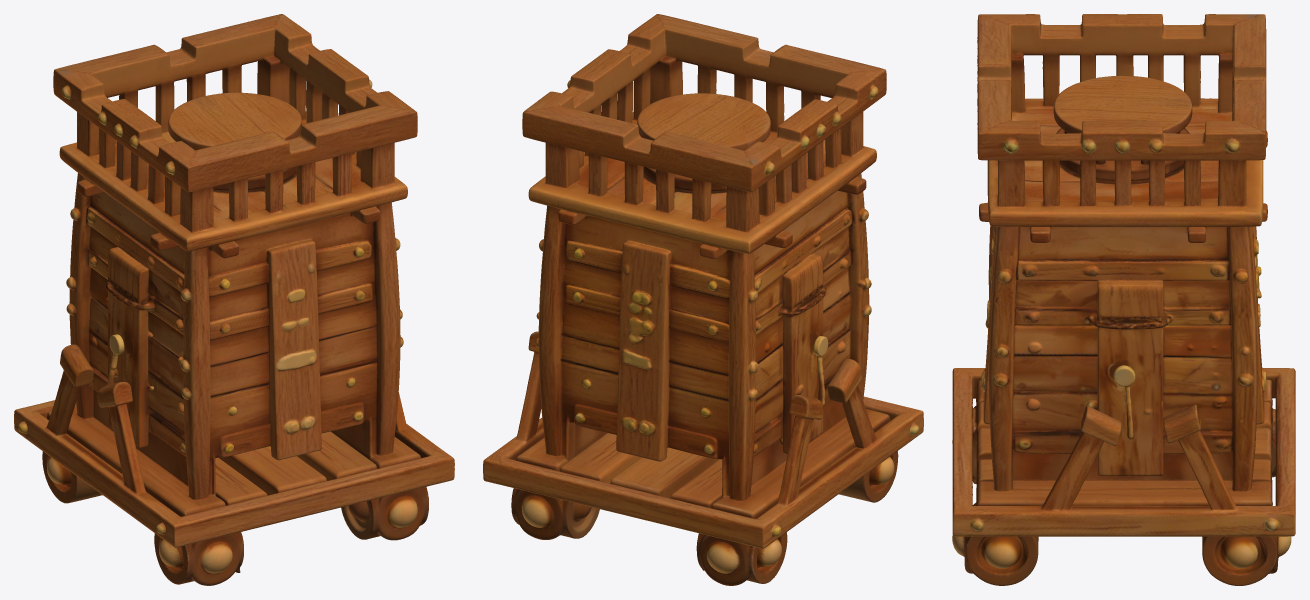
3 renders of one model, left to right at view 1: azimuth 30°, elevation 25°; view 2: azimuth 150°, elevation 25°; view 3: azimuth 270°, elevation 25°, orthographic. The views are drawn at different scales.
Visible parts, largest first — view 1: tripo_node_d61efca8-f782-4252-ab3f-689098604041; view 2: tripo_node_d61efca8-f782-4252-ab3f-689098604041; view 3: tripo_node_d61efca8-f782-4252-ab3f-689098604041.
Part boxes in pixels (bbox=[...]): tripo_node_d61efca8-f782-4252-ab3f-689098604041: bbox=[14, 14, 454, 585]; tripo_node_d61efca8-f782-4252-ab3f-689098604041: bbox=[483, 14, 923, 585]; tripo_node_d61efca8-f782-4252-ab3f-689098604041: bbox=[952, 14, 1295, 585].
Bounding box in the file's own units: 0.7238 × 1 × 0.6898.
Materials: 1 (1 with a texture image).
